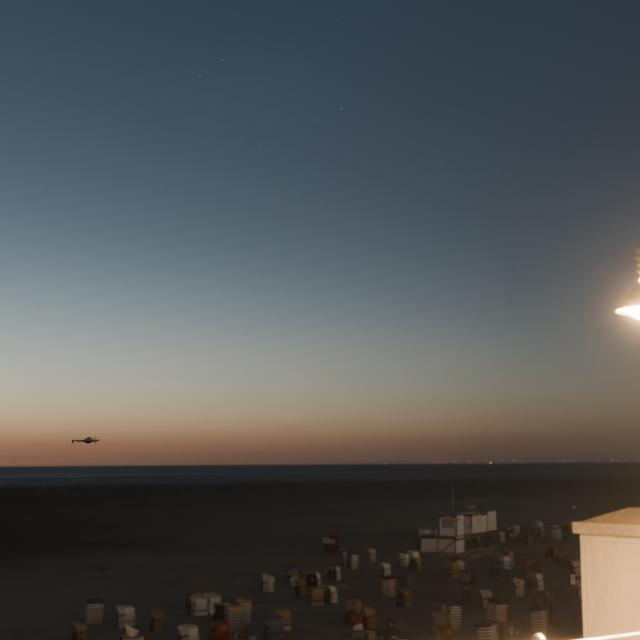Airaplan: (72, 437, 101, 444)
